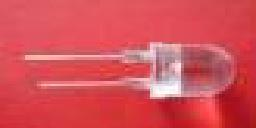LED: (87, 40, 239, 101)
